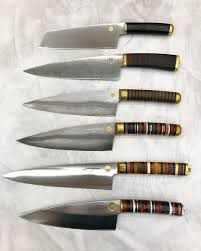kuchillu: (1, 159, 194, 190), (15, 120, 183, 152), (21, 86, 185, 118)
